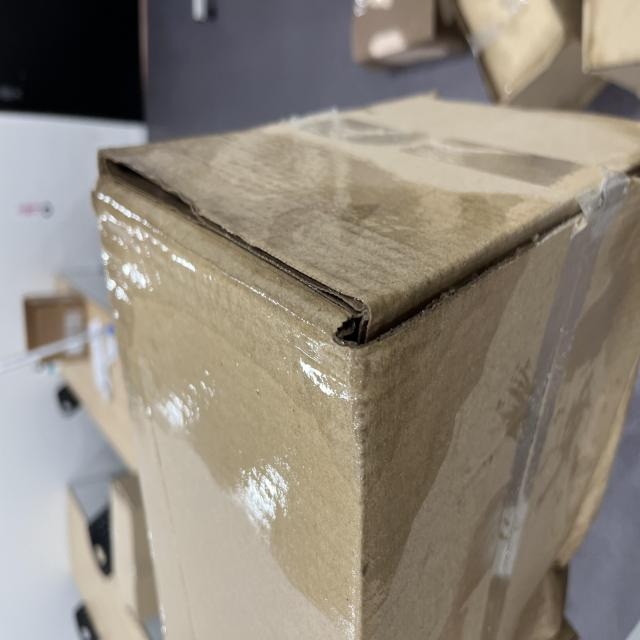wet: (60, 121, 396, 640)
